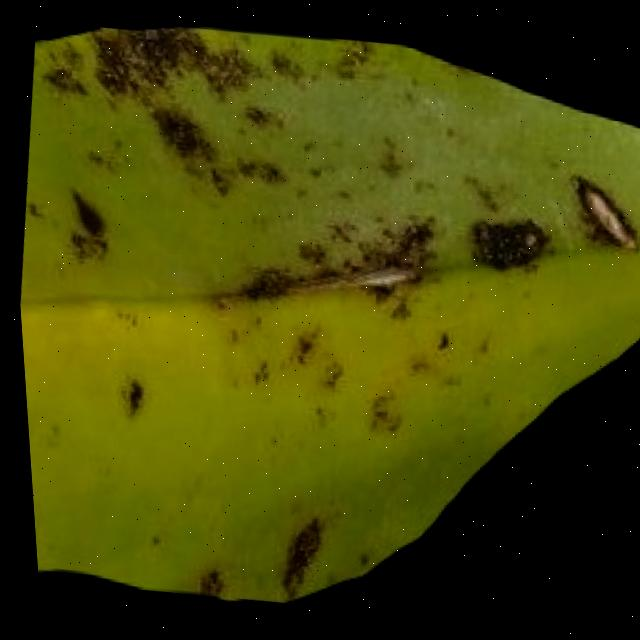mite: (456, 161, 640, 288), (235, 225, 425, 295), (464, 213, 544, 274), (62, 186, 103, 238)
spots: (16, 6, 640, 629)
